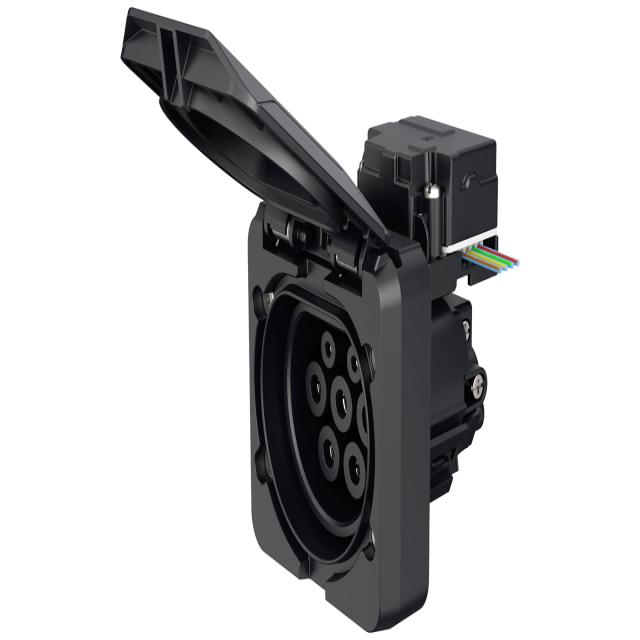Type 2: (260, 290, 382, 521)
